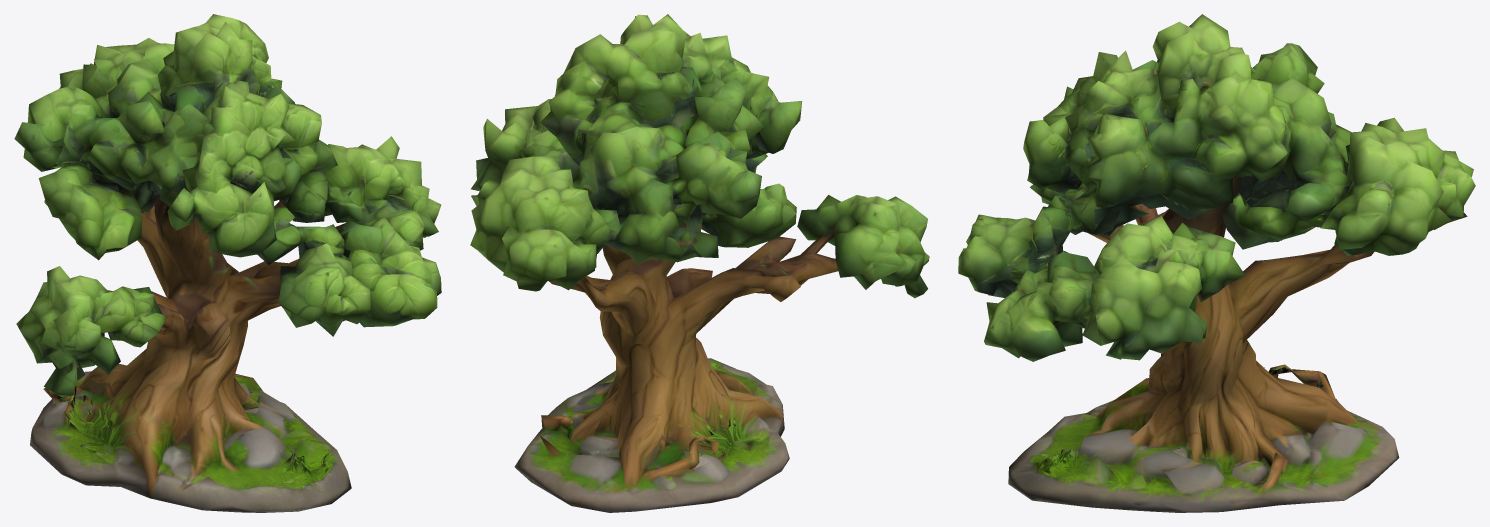
File: tree1.glb
3 renders of one model, left to right at view 1: azimuth 30°, elevation 25°; view 2: azimuth 150°, elevation 25°; view 3: azimuth 270°, elevation 25°, orthographic. The views are drawn at different scales.
Size of the model in its own units: 1.98 by 1.9 by 2.
1 material, 1 textured.
